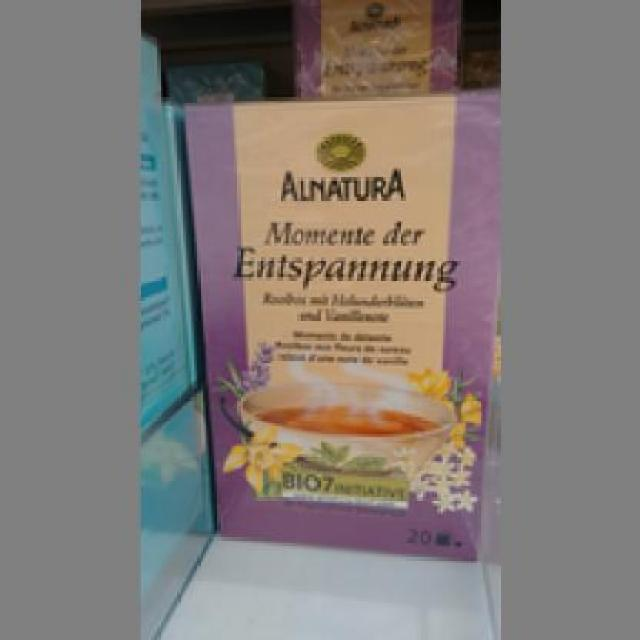Tea: (180, 90, 497, 566)
